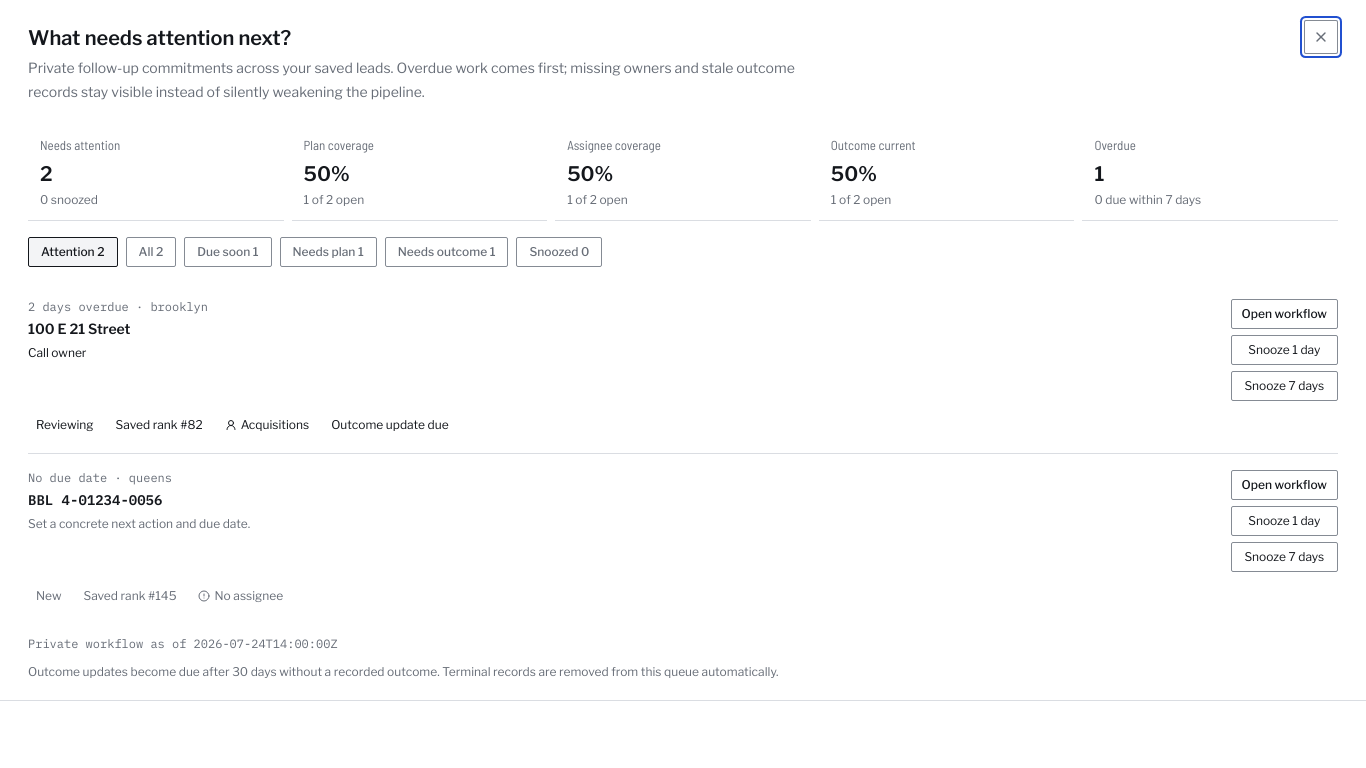
ParcelWorkflowActionsPanel › snoozes the current reminder identity and refreshes the queue
Click the button "Snooze 1 day" in the row of "Call owner".
click(1284, 350)  # box [1231,334,1338,364]
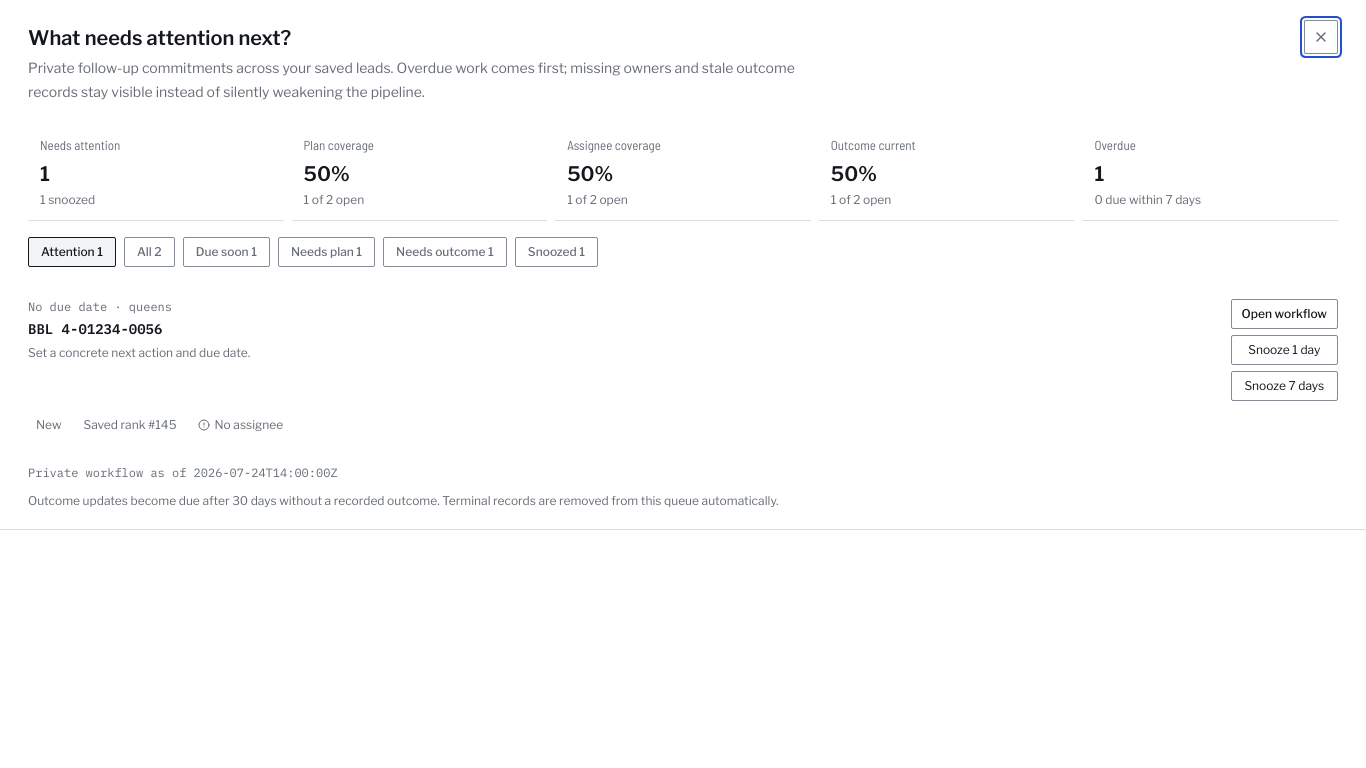
Click the button "Snoozed 1".
click(556, 252)  # box [515,236,598,266]
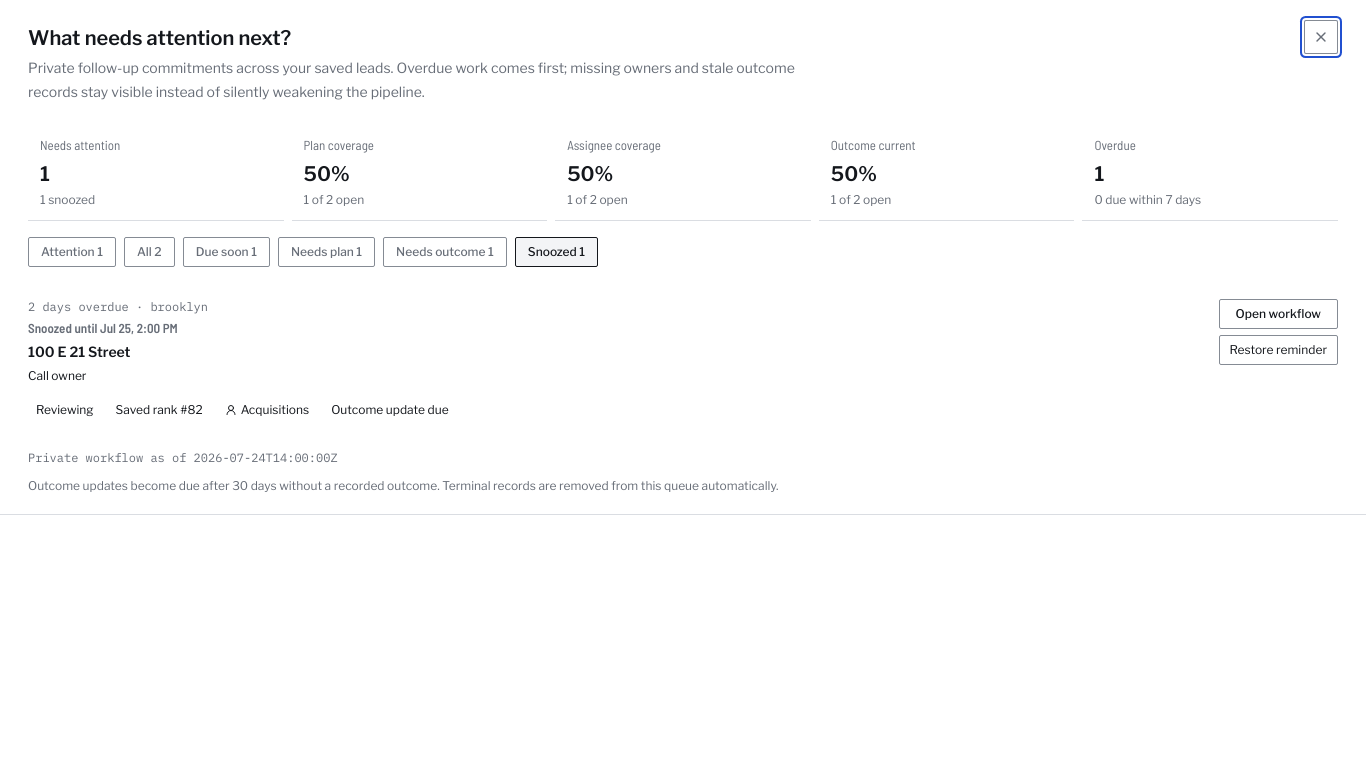
Check: the button "Restore reminder" is shown, box [1218,334,1338,364]
Check: the text "Snoozed until Jul 25, 2:00 PM" is shown, box [28,320,178,336]
